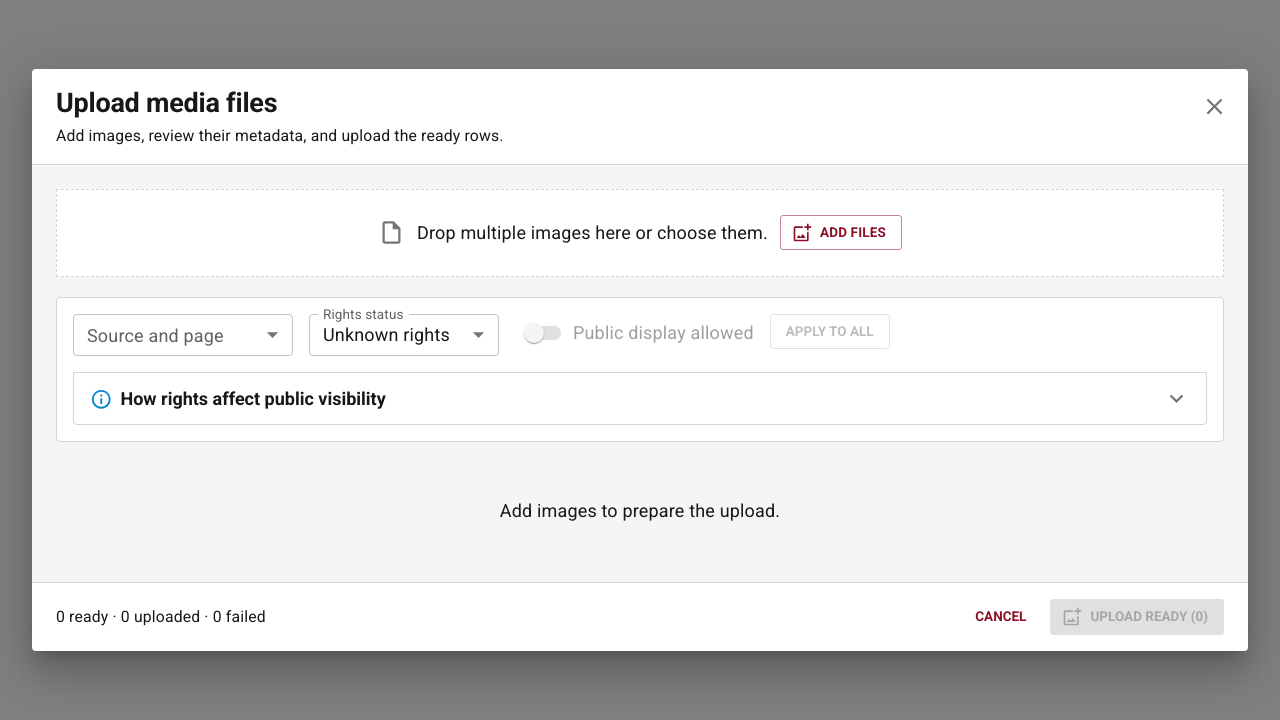
Scenario: MediaUploadDialog rights › explains rights and defaults uploads to unknown and private
The width and height of the screenshot is (1280, 720).
Expected: the dropdown named "Rights status" reads "Unknown rights", left=323, top=324, right=450, bottom=345
Expected: the switch labelled "Public display allowed" is disabled, left=524, top=322, right=754, bottom=343
Click the button "How rights affect public visibility" at (253, 399), box left=74, top=373, right=1206, bottom=424
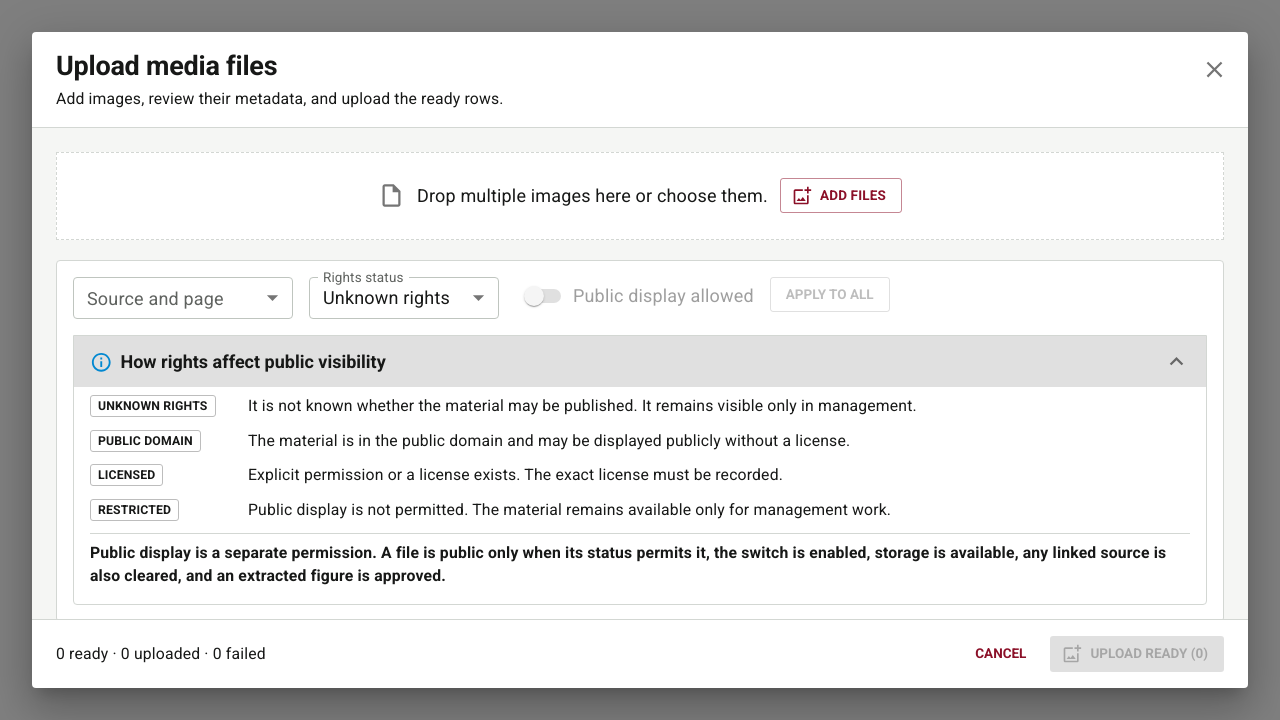
Result: the text "It is not known whether the material may be published" is shown at left=248, top=396, right=917, bottom=415
Result: the text "A file is public only when its status permits it" is shown at left=90, top=544, right=1166, bottom=585
